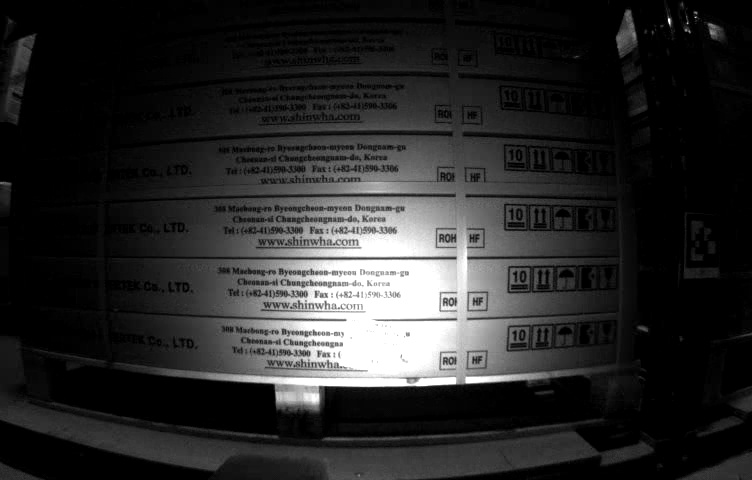True Barcode: (345, 318, 405, 371)
